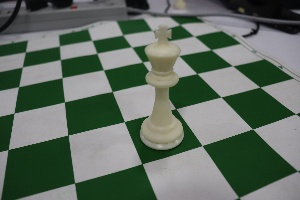white_king: (135, 14, 192, 156)
